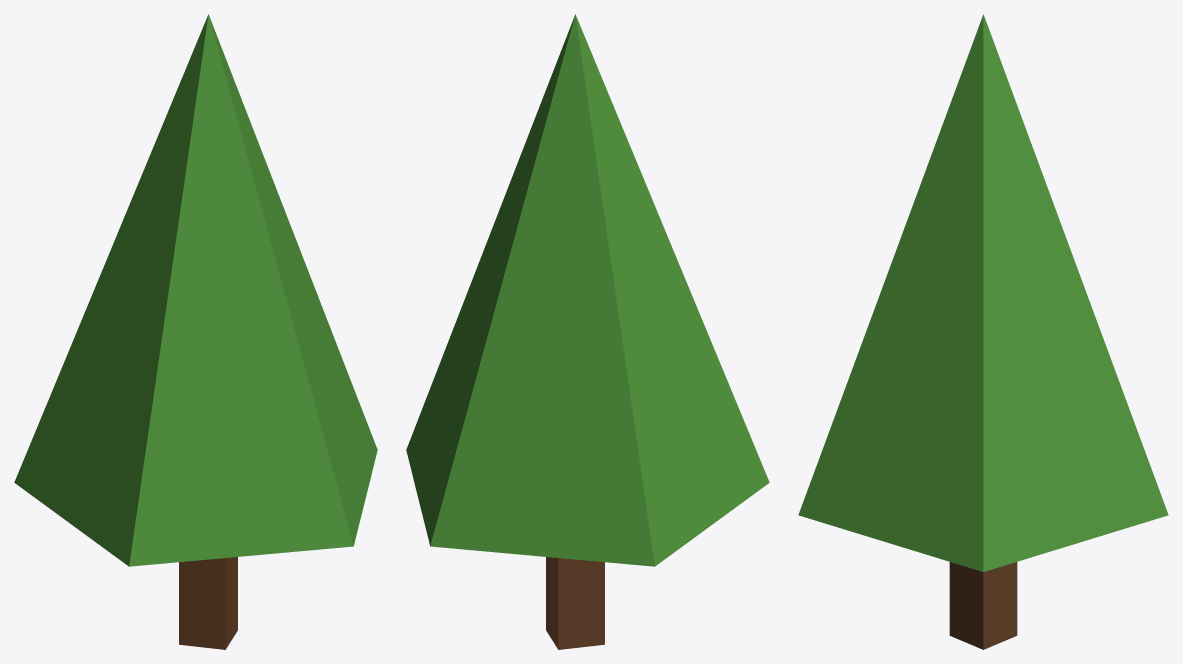
The model's file is SM_PineFar_G.obj.
3 views of the same model, side by side, from view 1: azimuth 30°, elevation 25°; view 2: azimuth 150°, elevation 25°; view 3: azimuth 270°, elevation 25° (orthographic).
Parts seen in each view (by area): view 1: SM_PineFar_G; view 2: SM_PineFar_G; view 3: SM_PineFar_G.
Boxes of the visible parts, box(x1,y1,x2,y2) form: SM_PineFar_G: box(14, 14, 377, 649); SM_PineFar_G: box(406, 14, 769, 649); SM_PineFar_G: box(798, 14, 1168, 649).
Size of the model in its own units: 4.16 by 8.1 by 4.37.
1 material, 1 textured.
